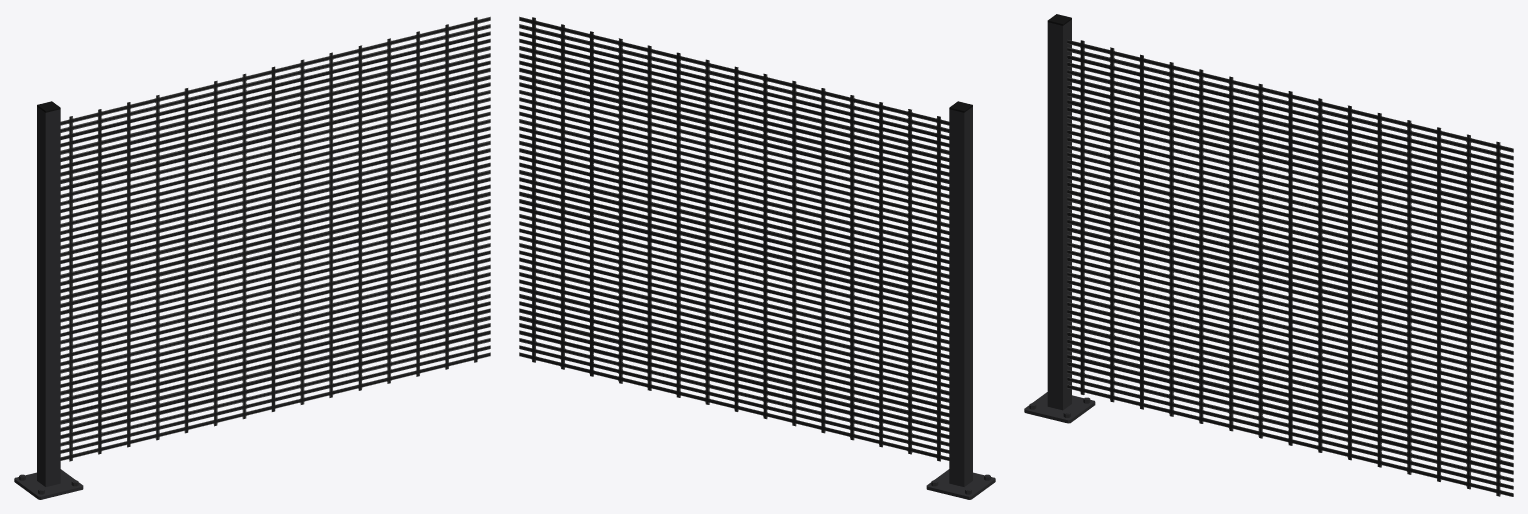
Rendered from SM05_Safety_Fence_01_Straight_1500_Half.fbx.
The picture shows the model from 3 angles, left to right: view 1: azimuth 30°, elevation 25°; view 2: azimuth 150°, elevation 25°; view 3: azimuth 330°, elevation 25°; orthographic projection. The views are drawn at different scales.
Visible parts, largest first — view 1: SM05_Safety_Fence_01_Straight_1500_Half; view 2: SM05_Safety_Fence_01_Straight_1500_Half; view 3: SM05_Safety_Fence_01_Straight_1500_Half.
Part boxes in pixels (x1,y1,x2,y2): SM05_Safety_Fence_01_Straight_1500_Half: (14, 16, 490, 499); SM05_Safety_Fence_01_Straight_1500_Half: (519, 16, 995, 499); SM05_Safety_Fence_01_Straight_1500_Half: (1024, 14, 1513, 496).
Bounding box in the file's own units: 1.55 × 1.21 × 0.15.
